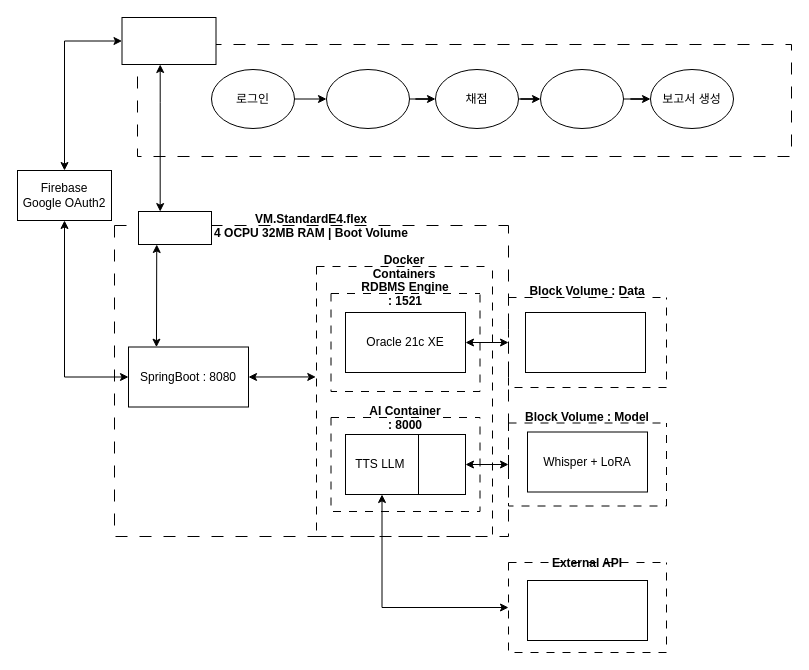
This 809x670 diagram has some shape labels left out. Here are the shapes that lost their labels. From the top down, the centre of each, then its label:
(x=168, y=40): 덕담 Android(Kotlin)
(x=368, y=98): 오늘의 학습
(x=582, y=98): AI 대화
(x=175, y=227): nginx : 80
(x=585, y=342): DB data
(x=442, y=464): STT
(x=587, y=610): OpenAI TTS-1 Ollama Gemma4
